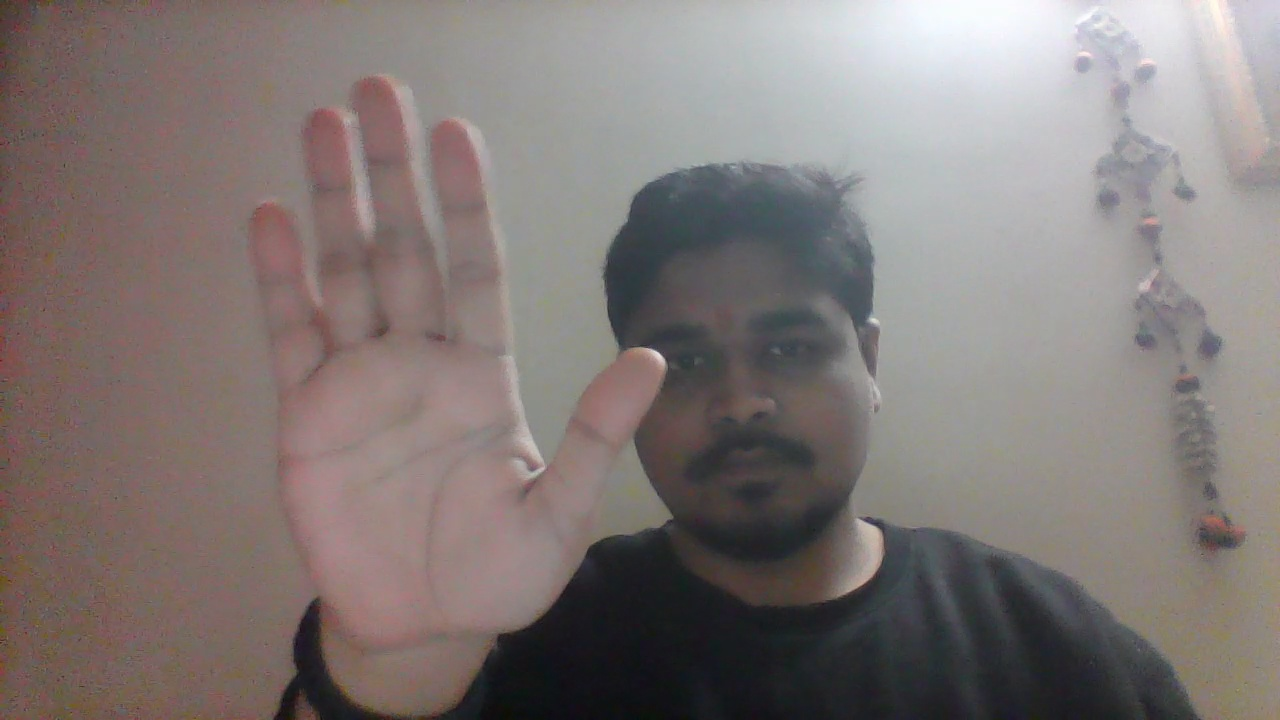Hello: (238, 71, 671, 656)
